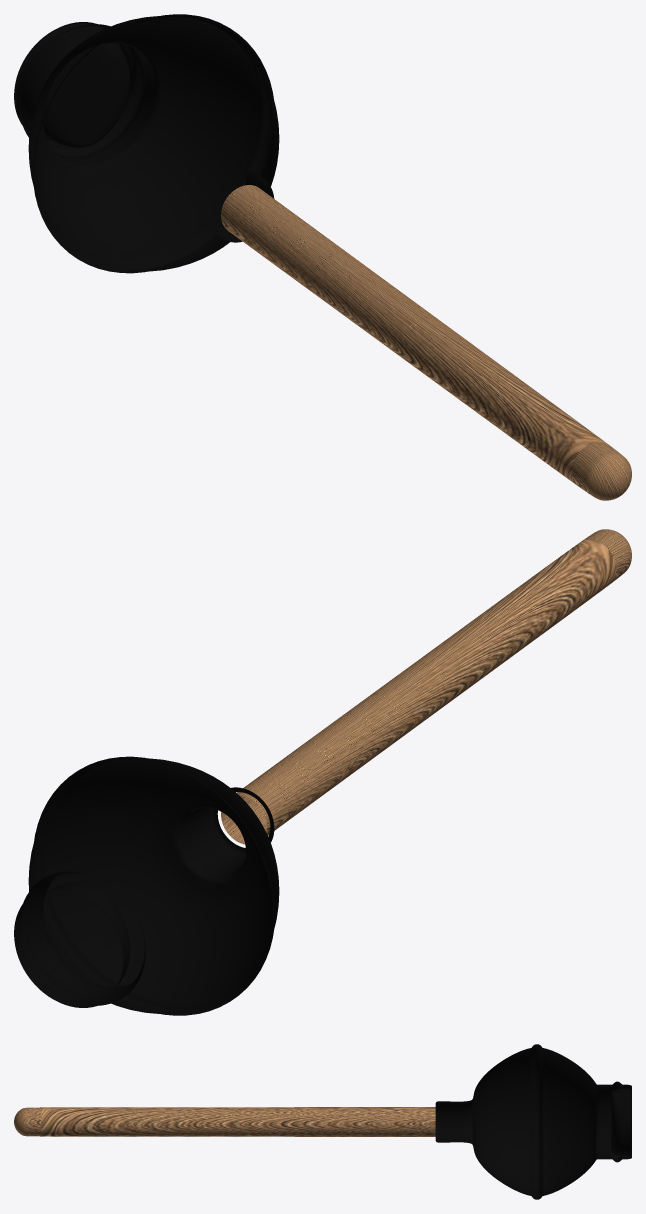
File: plunger_homing.obj
3 renders of one model, top to bottom at view 1: azimuth 30°, elevation 25°; view 2: azimuth 150°, elevation 25°; view 3: azimuth 270°, elevation 25°, orthographic. The views are drawn at different scales.
Visible parts, largest first — view 1: Plunger02_Sphere.007; view 2: Plunger02_Sphere.007; view 3: Plunger02_Sphere.007.
Boxes of the visible parts, x1,y1,x2,y2 form: Plunger02_Sphere.007: (14,14,631,500); Plunger02_Sphere.007: (14,529,631,1015); Plunger02_Sphere.007: (14,1044,631,1199).
Size of the model in its own units: 0.3799 by 0.3799 by 1.51.
2 materials, 1 textured.
